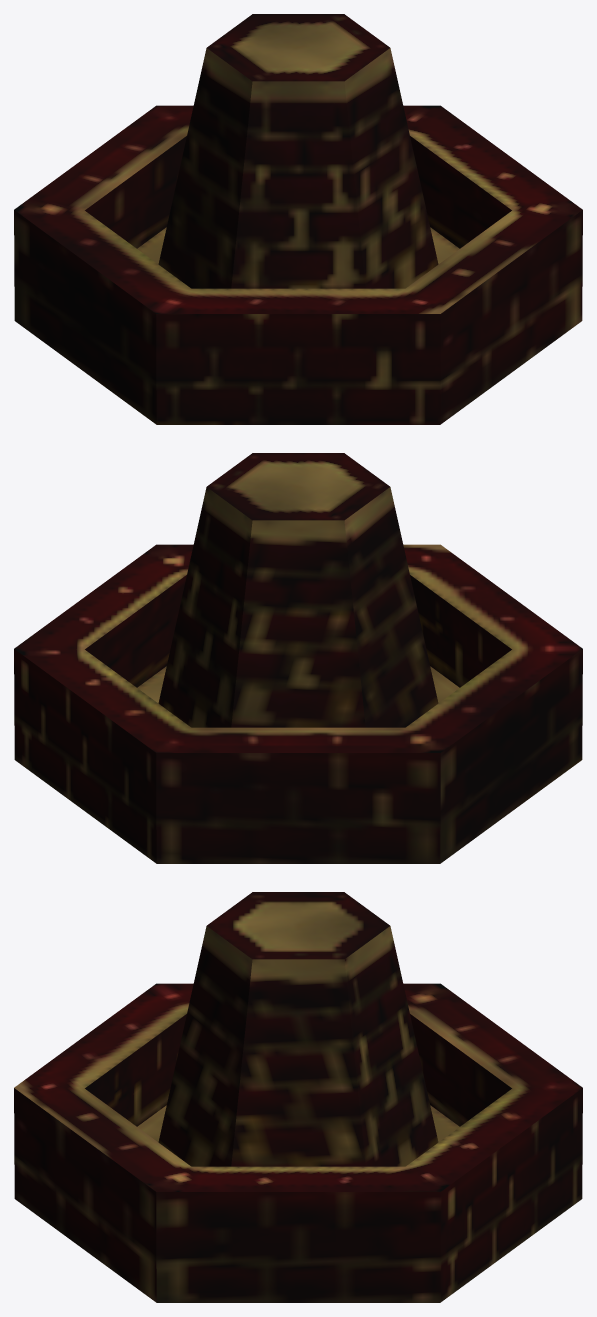
Rendered from Well-1-A.fbx.
3 renders of one model, top to bottom at view 1: azimuth 30°, elevation 25°; view 2: azimuth 150°, elevation 25°; view 3: azimuth 270°, elevation 25°, orthographic.
Parts seen in each view (by area): view 1: Well; view 2: Well; view 3: Well.
Part boxes in pixels (bbox=[...]): Well: bbox=[14, 14, 582, 424]; Well: bbox=[14, 453, 582, 863]; Well: bbox=[14, 892, 582, 1302].
Size of the model in its own units: 380 by 232 by 439.
